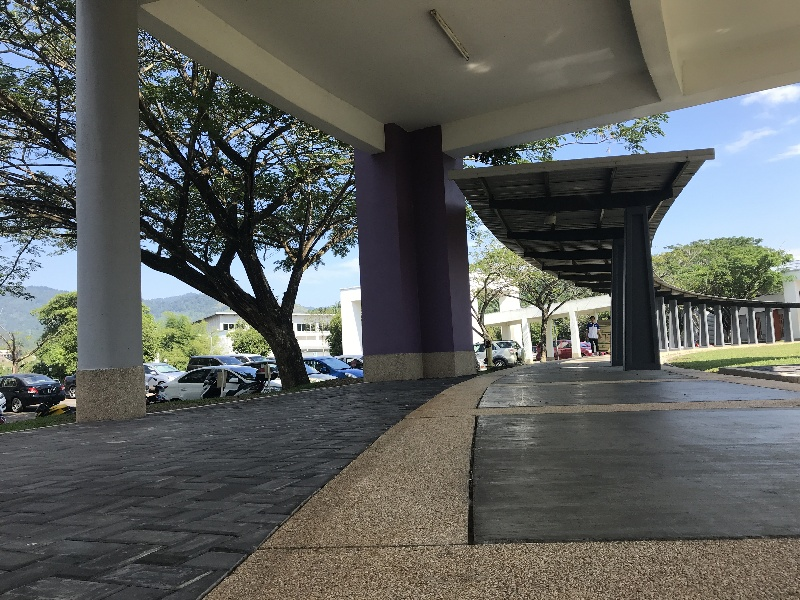Block D Pillar 5: (7, 2, 800, 559)
pillar: (341, 112, 486, 392), (63, 2, 155, 420), (609, 203, 673, 378)
